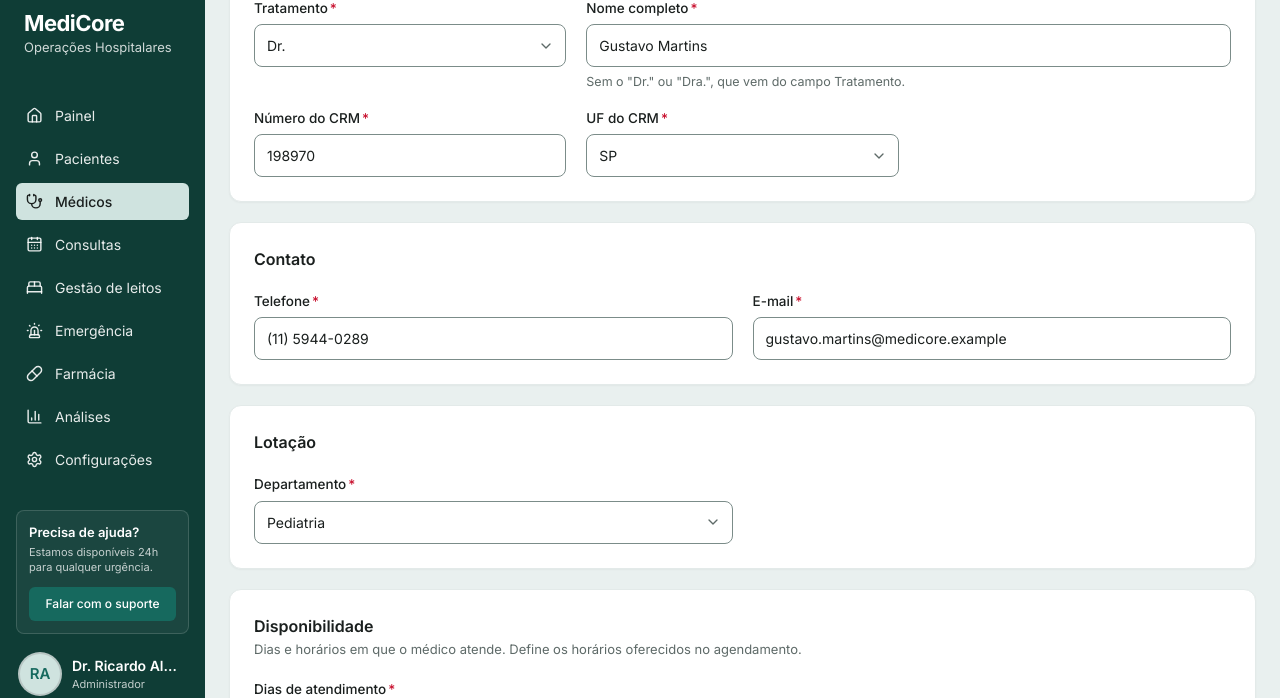
Test: Edição: concorrência (E-05) e E-08 › outra aba grava: aviso; ao salvar, "Recarregar dados" descarta o que foi digitado
The width and height of the screenshot is (1280, 698).
(page scrolled)
Replace the text in the field labelled "E-mail*" with "minha.versao@medicore.example": coordinates (992, 339) left=752, top=317, right=1231, bottom=360
(page scrolled)
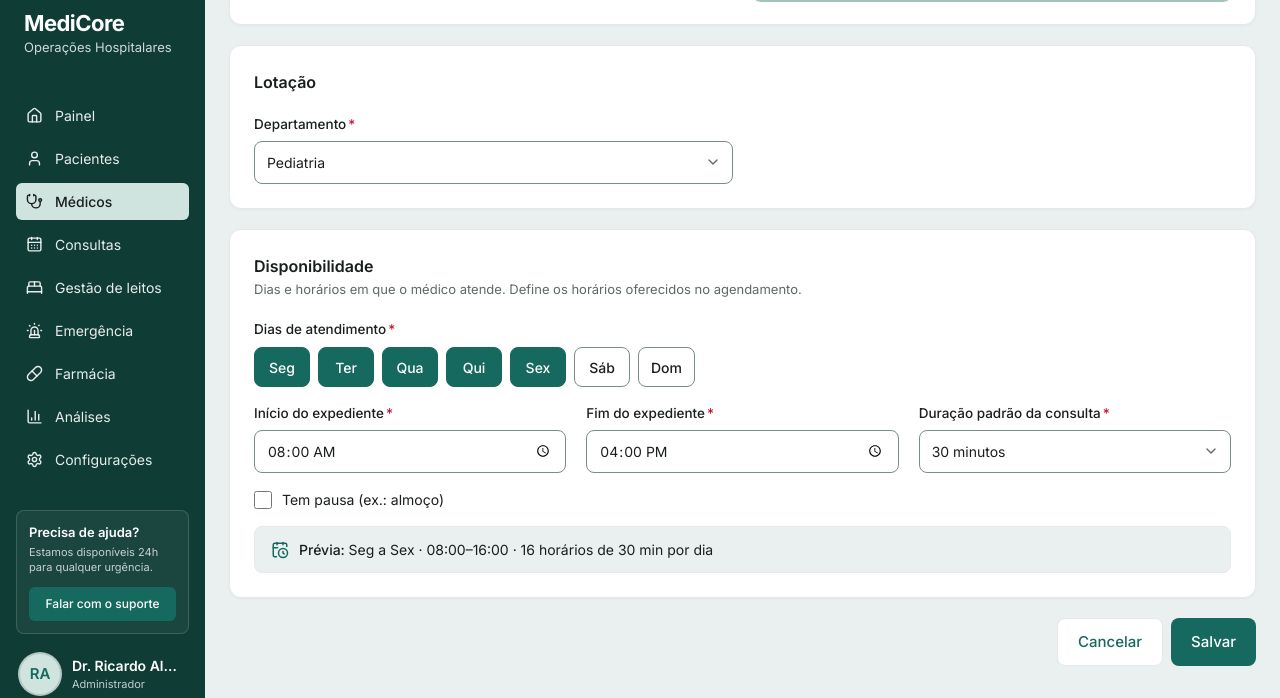
Click the button "Salvar": coordinates (1214, 642) left=1171, top=618, right=1256, bottom=666
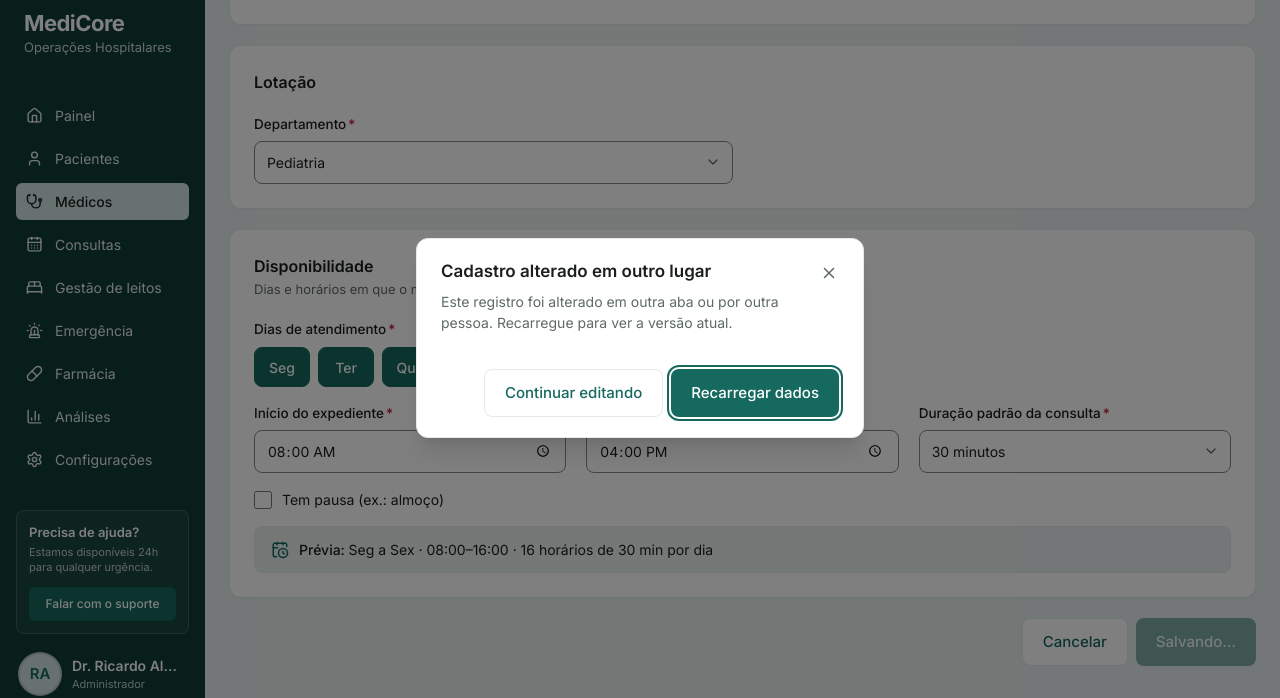
Click the button "Recarregar dados": coordinates (755, 393) left=671, top=368, right=839, bottom=417
(page scrolled)
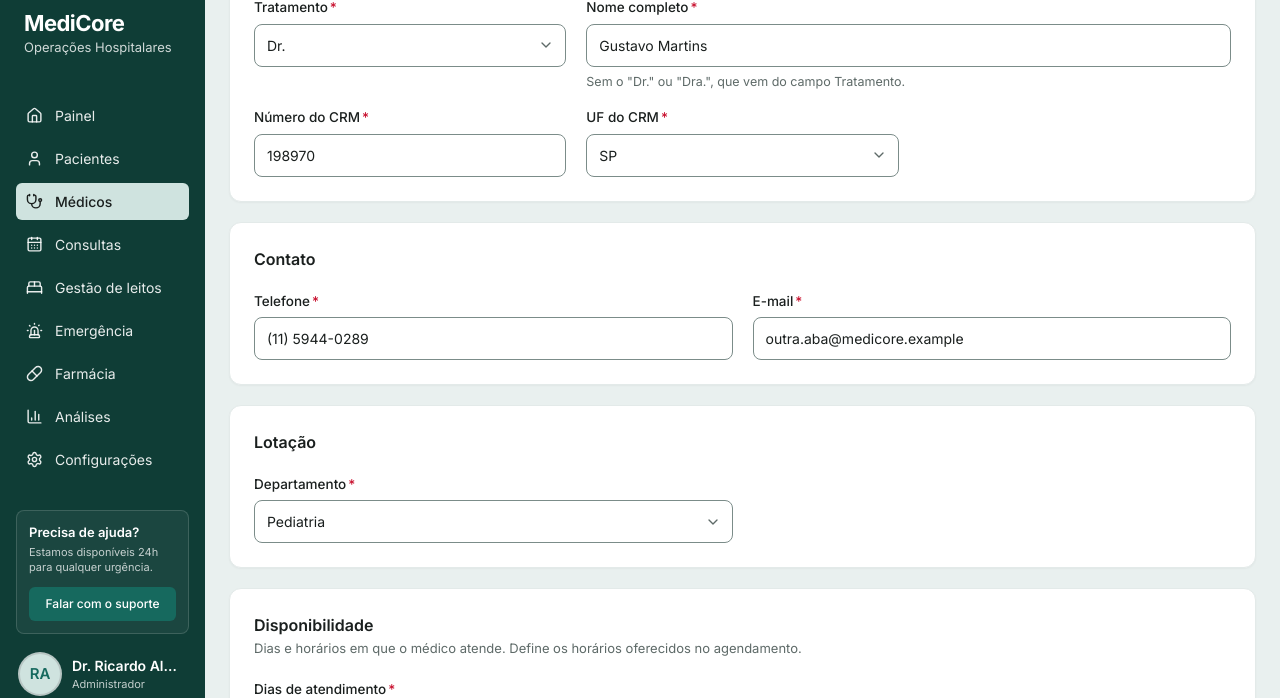
Now the field labelled "E-mail*" holds "outra.aba@medicore.example", box left=752, top=317, right=1231, bottom=360
